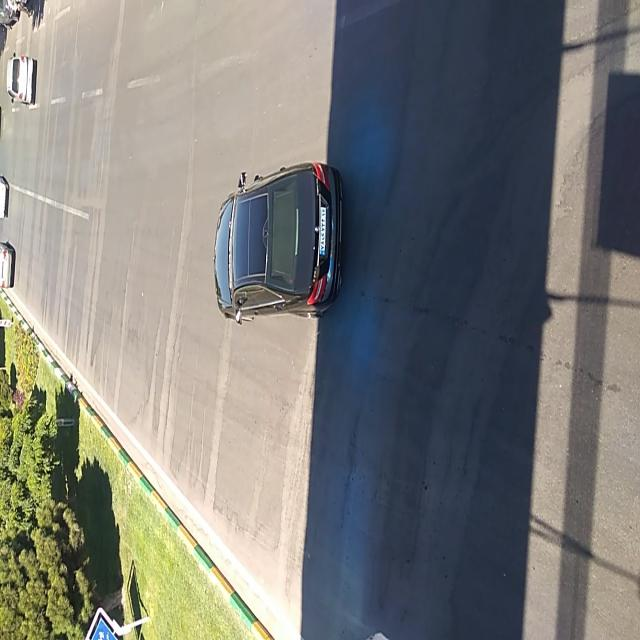car: (213, 162, 343, 315), (7, 53, 38, 102)
